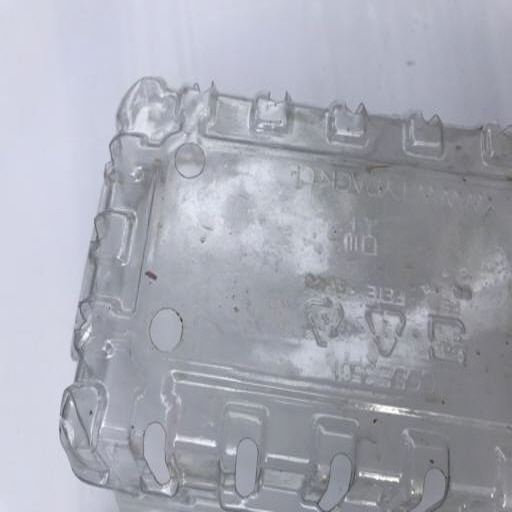Plastic_4: (59, 79, 512, 511)
